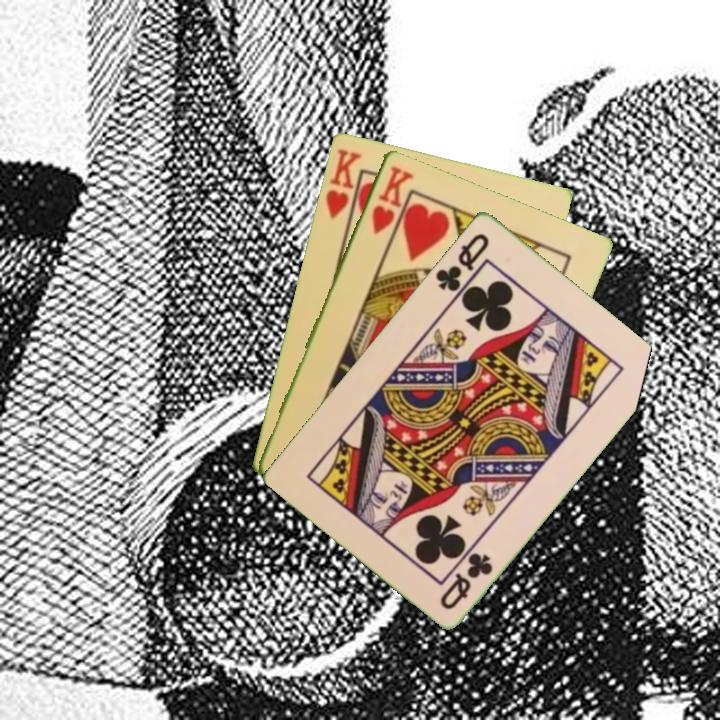Kh: (321, 144, 365, 229), (368, 162, 416, 237)
Qc: (431, 229, 493, 302), (436, 548, 496, 612)
